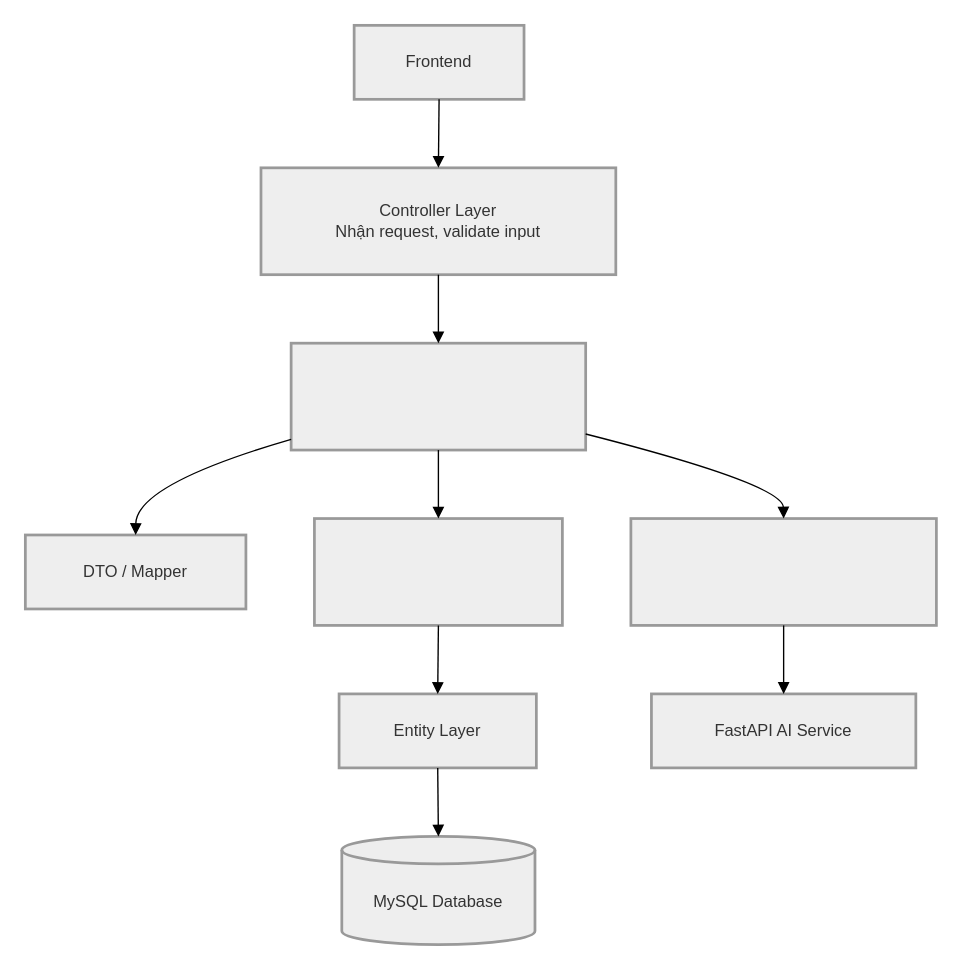
Image size: 960x969. Some labels were removed from this diagram. The shapes that lost their labels are listed below. From the top down, each one's centre as x and y in pixels, then its label:
the point at 437,396: Service Layer Xử lý nghiệp vụ chính
the point at 437,571: Repository Layer
the point at 783,571: AI Client Gọi AI Service
